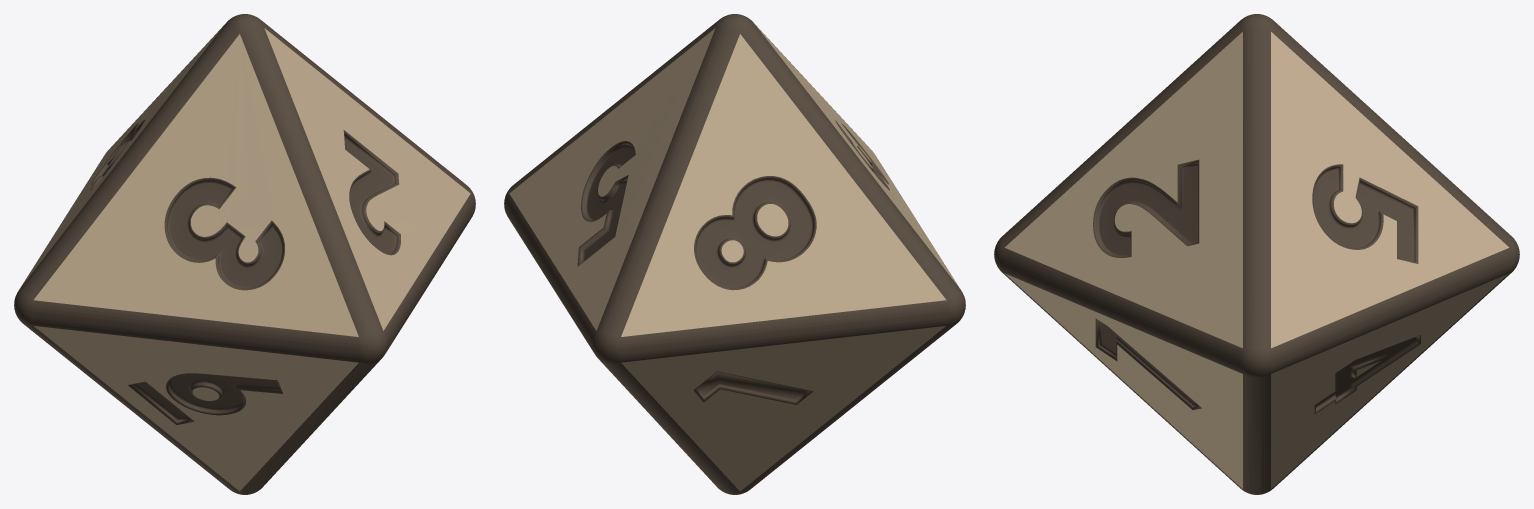
Rendered from DiceModel.fbx.
3 renders of one model, left to right at view 1: azimuth 30°, elevation 25°; view 2: azimuth 150°, elevation 25°; view 3: azimuth 270°, elevation 25°, orthographic.
Parts seen in each view (by area): view 1: d8.008; view 2: d8.008; view 3: d8.008.
Boxes of the visible parts, x1,y1,x2,y2 form: d8.008: (14,14,475,494); d8.008: (504,14,965,494); d8.008: (994,14,1519,494).
Bounding box in the file's own units: 2154 × 2154 × 2154.
